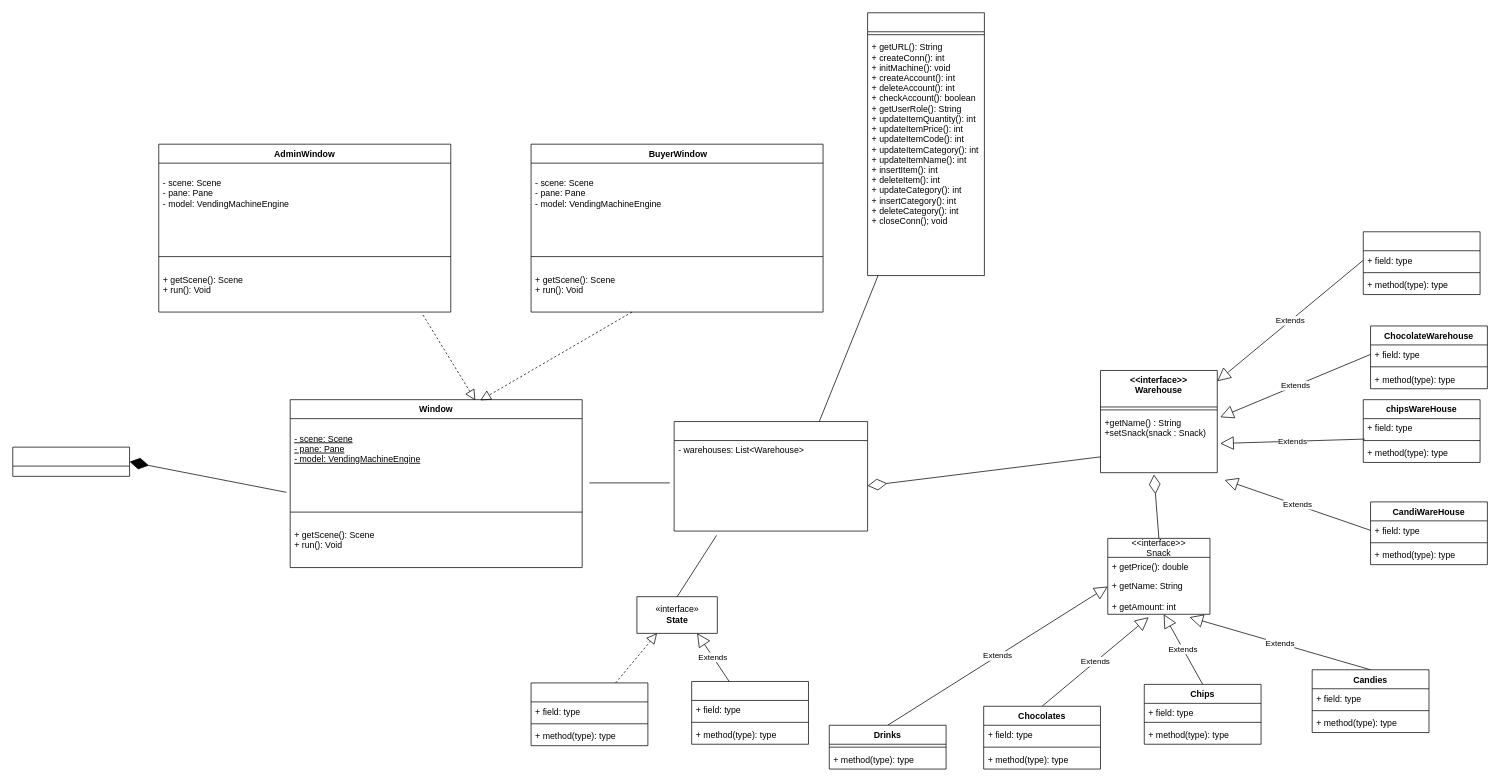
This 1500x784 diagram has some shape labels left out. Here are the shapes that lost their labels. From the top down, the box of each, then its label:
(867, 12, 984, 276): DatabaseToolkit
(1363, 231, 1480, 295): DrinkWarehouse
(12, 446, 130, 476): App
(673, 421, 868, 531): VendingMachineEngine
(530, 682, 648, 746): BuyerState
(691, 681, 808, 744): AdminState
